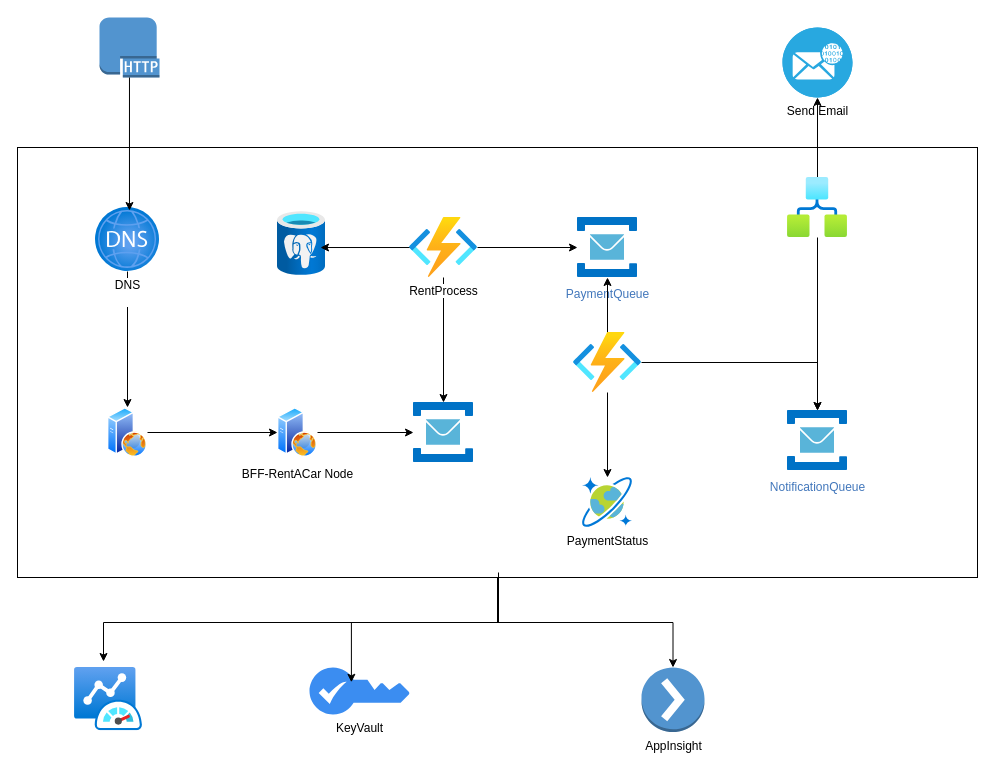
Some shapes in this 995 by 770 pixel diagram are drawn without their labels. The centre of each missing label's shape, as x and y in pixels:
"EmailNotification" belongs at (817,207).
"Front RentACar" belongs at (127,432).
"PaymentProcess" belongs at (607,362).
"RentProcess" belongs at (443,432).
